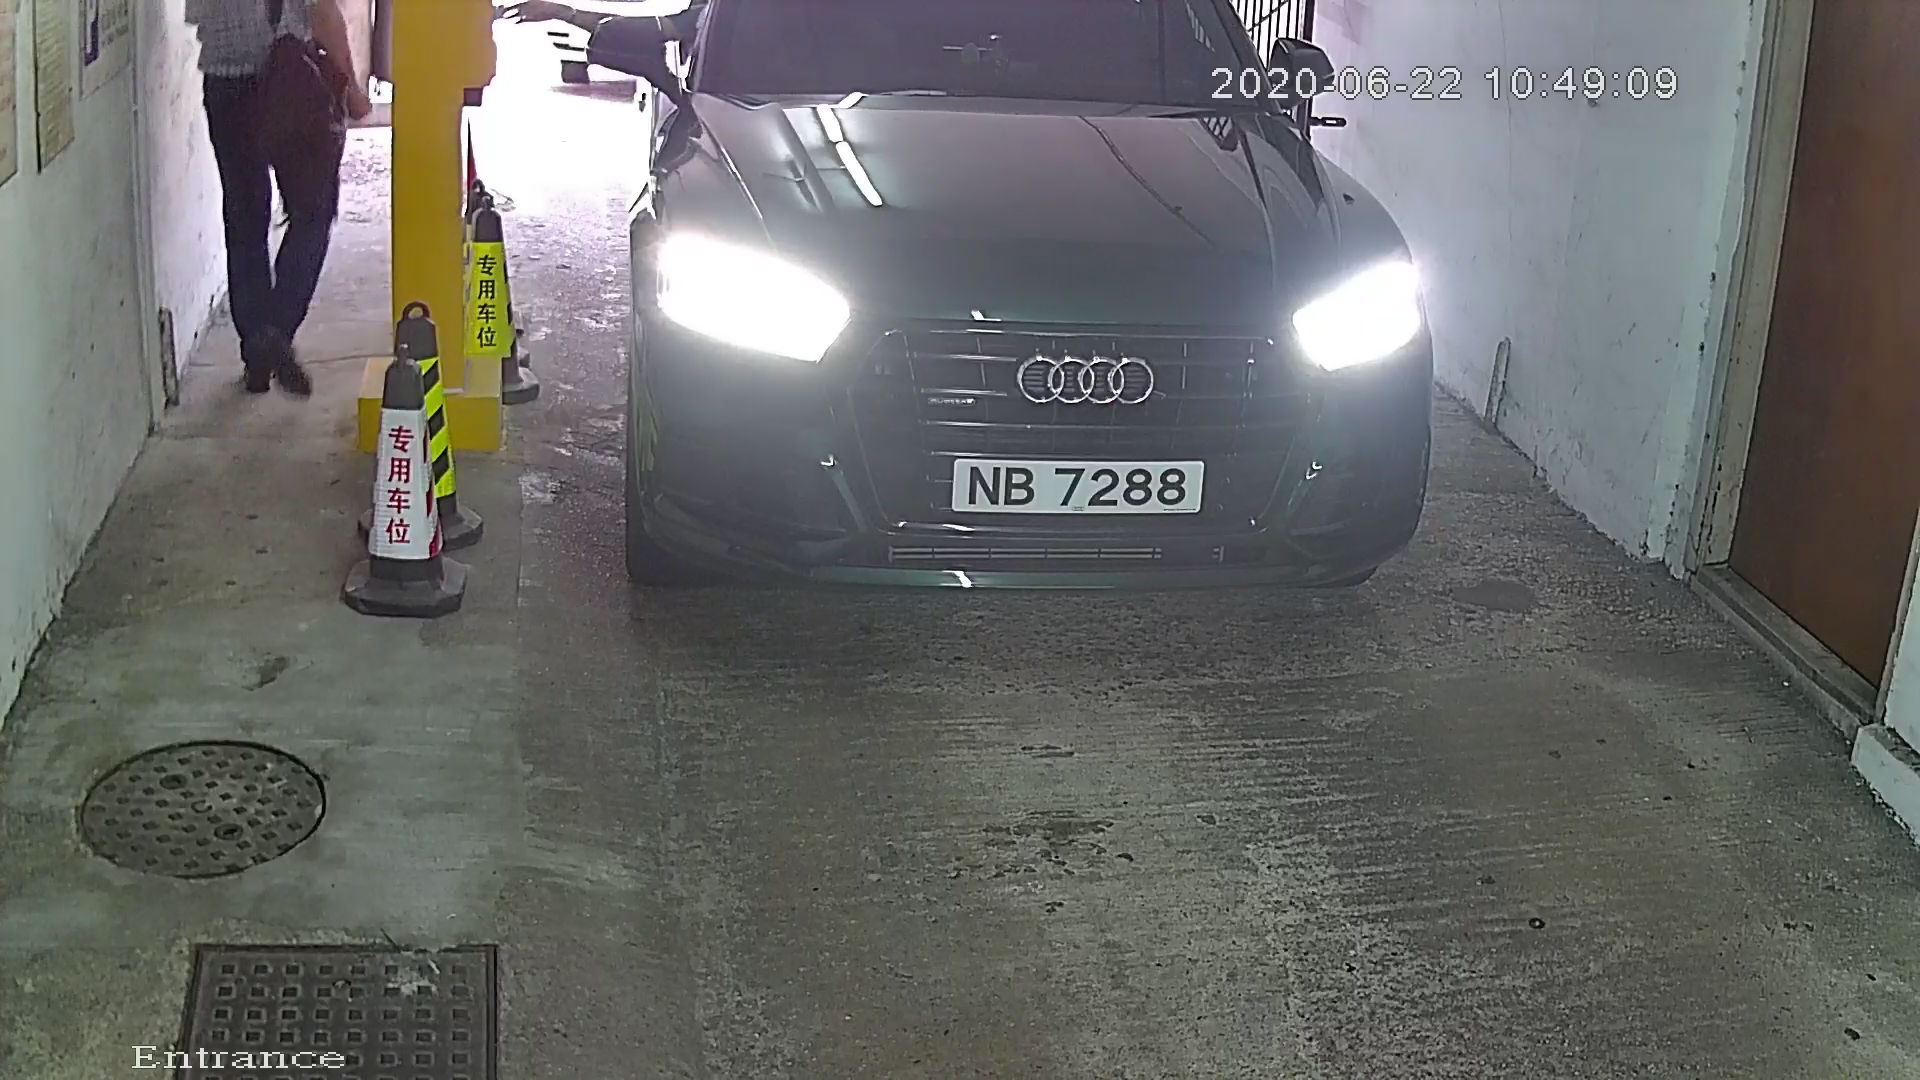privatecar: (553, 3, 1429, 644)
